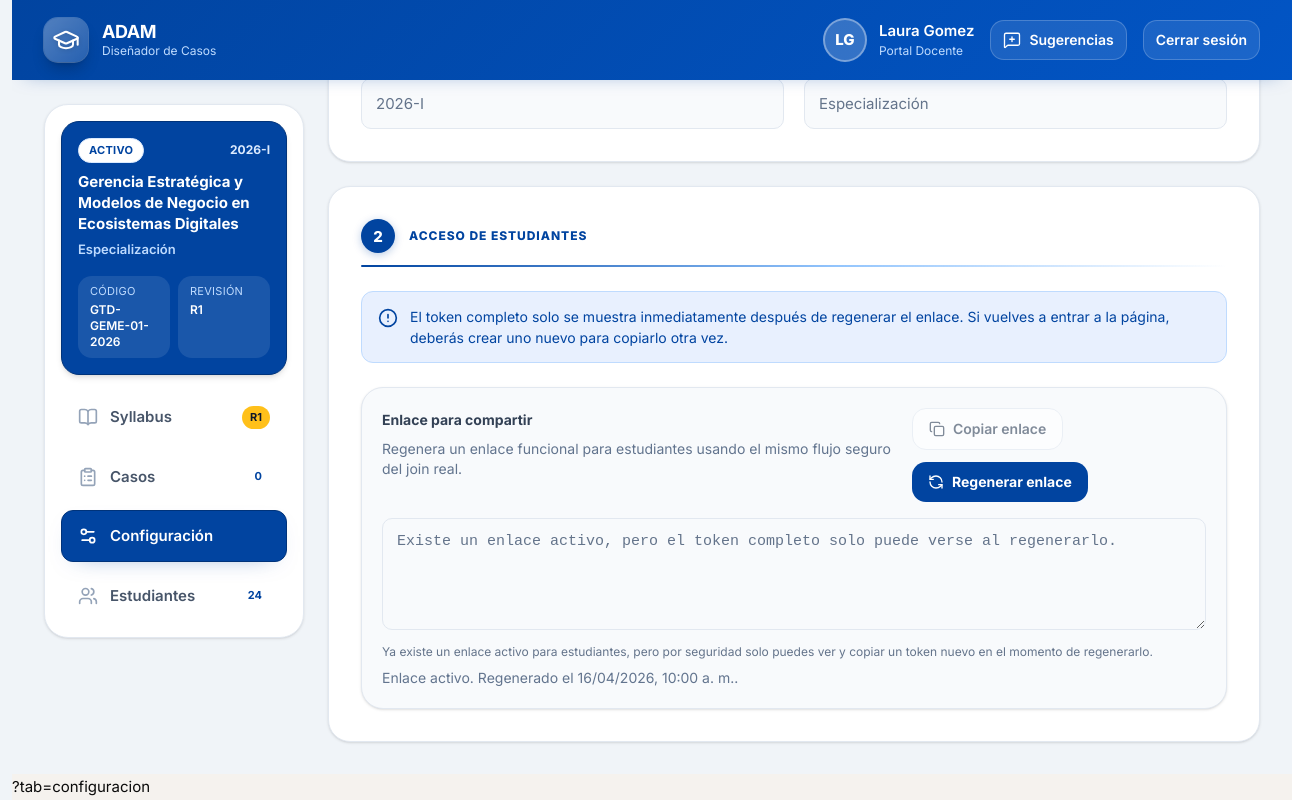
it: TeacherCoursePage › regenerates and copies a functional access link from the configuration tab
(page scrolled)
Click the button "Regenerar enlace" at (1000, 482), box [912,462,1088,502]
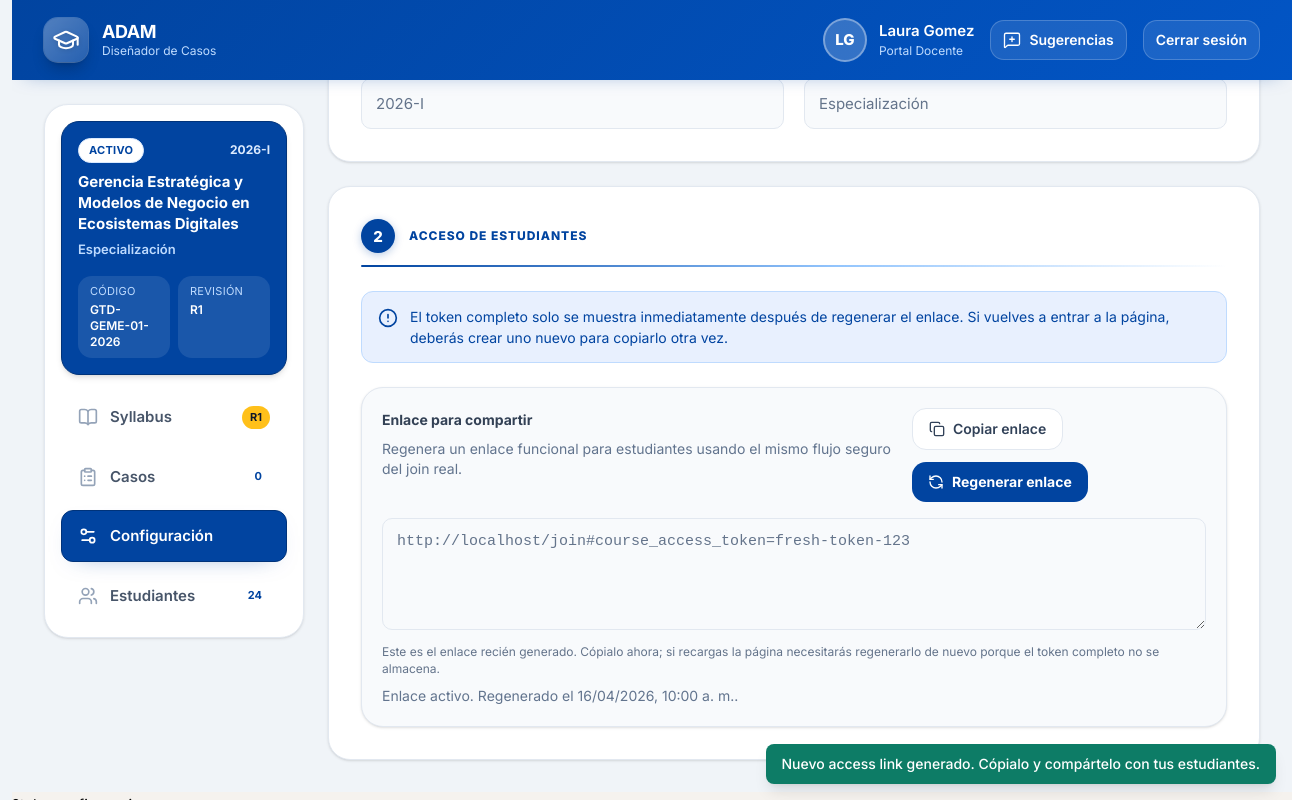
Click the button "Copiar enlace" at (988, 429), box [912,408,1063,450]
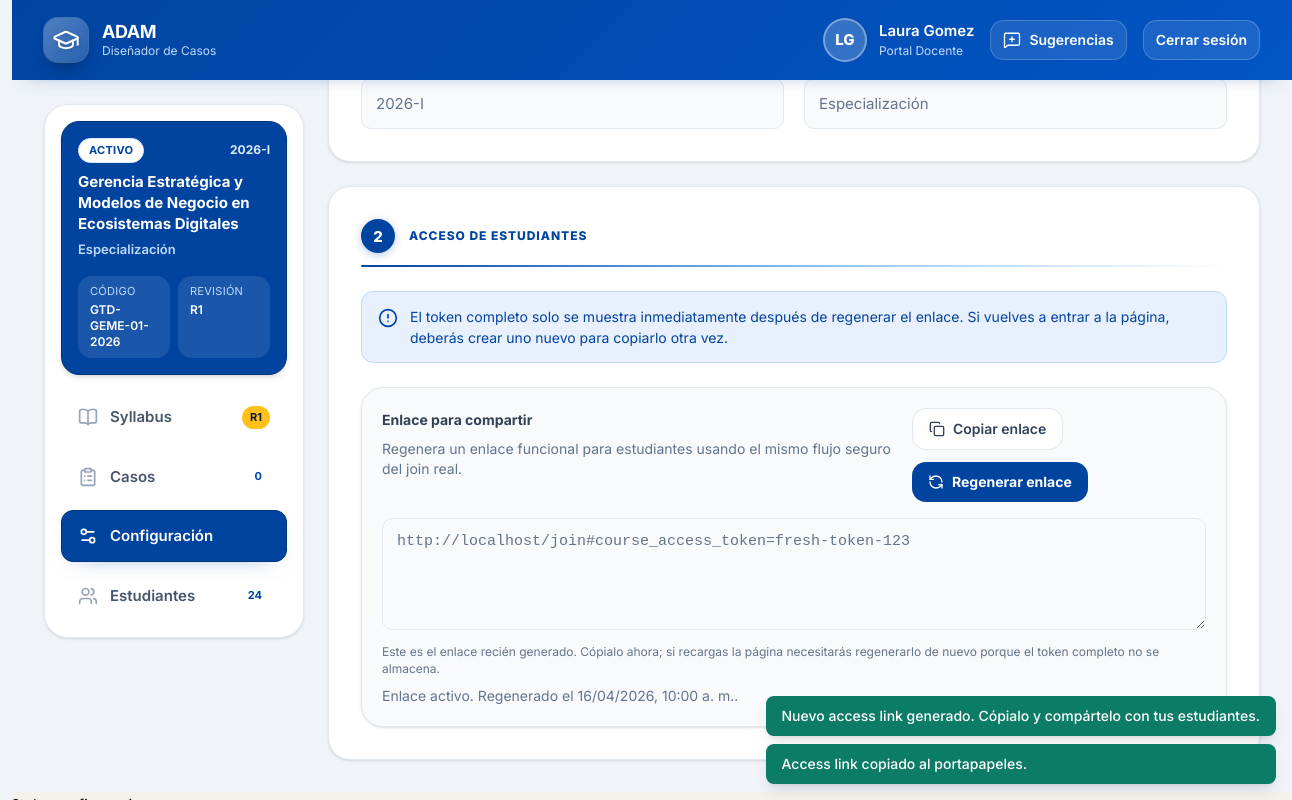
Expected: the text "Access link copiado al portapapeles." is shown, [766,744,1276,784]
